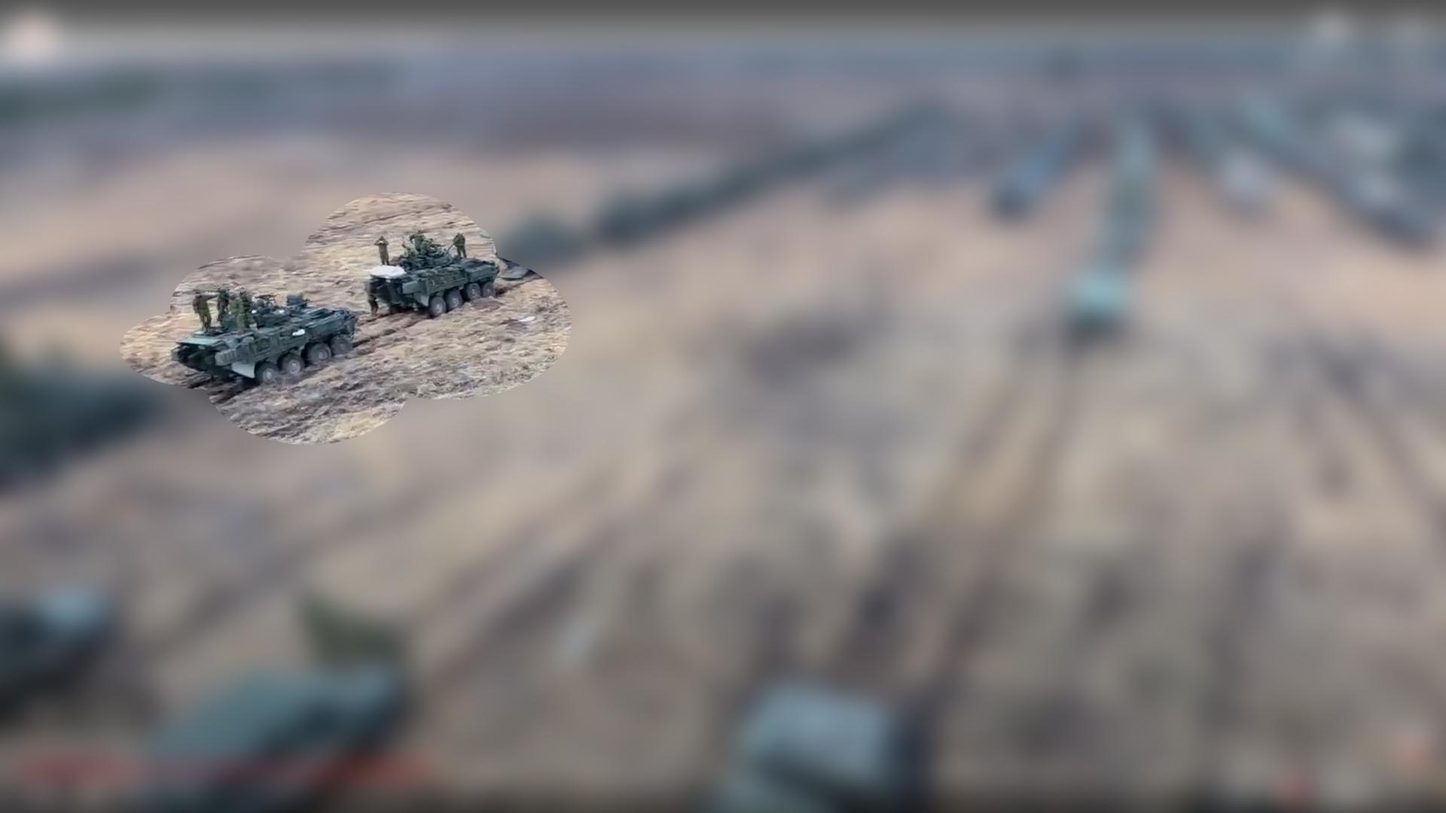armored_car: (168, 285, 356, 387), (367, 239, 501, 314)
